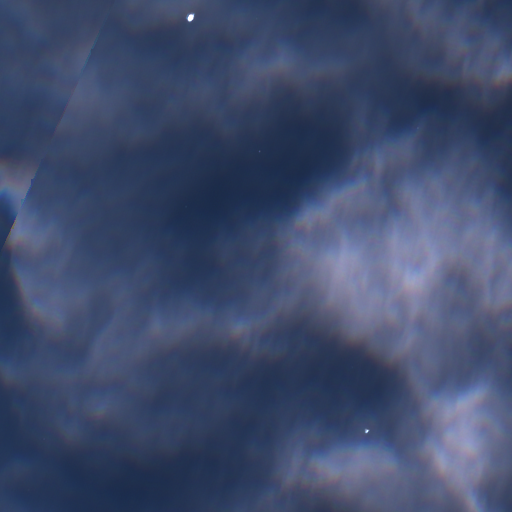Iceberg: (186, 13, 194, 21), (365, 429, 369, 433), (259, 150, 260, 152)
